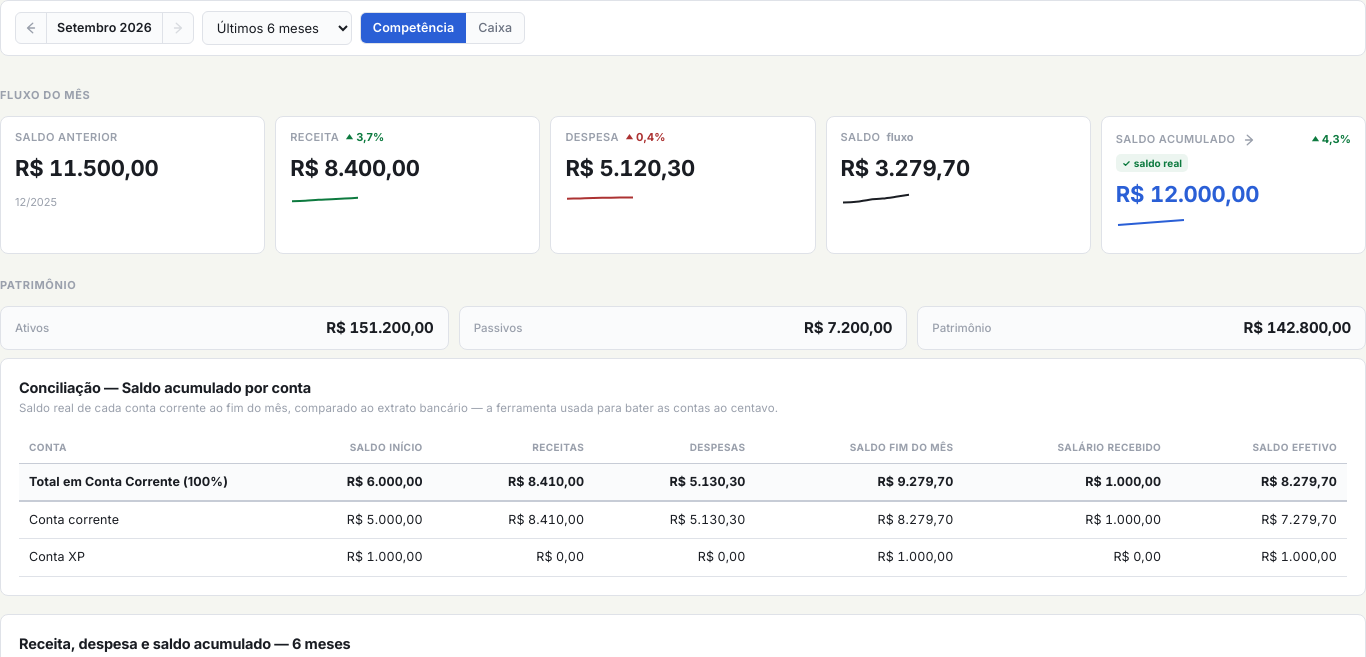
DashboardsPage › shows a 'comparativo por categoria' chart inside the Despesa/Receita funil
Check: the text "R$ 8.400,00" is shown, box [290, 153, 420, 185]
Click the button "Despesa 0,4% R$ 5.120,30": (592, 137) [550, 116, 816, 254]
(page scrolled)
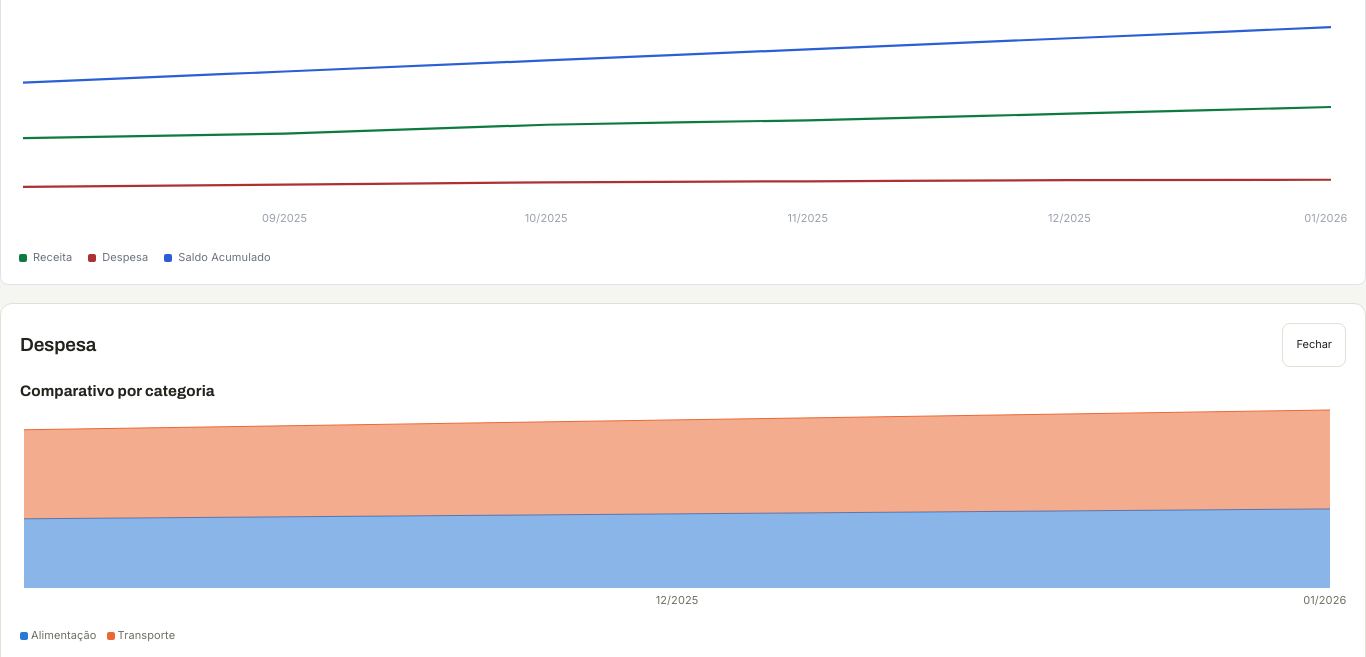
Check: the heading "Comparativo por categoria" is shown, box [20, 383, 215, 399]
